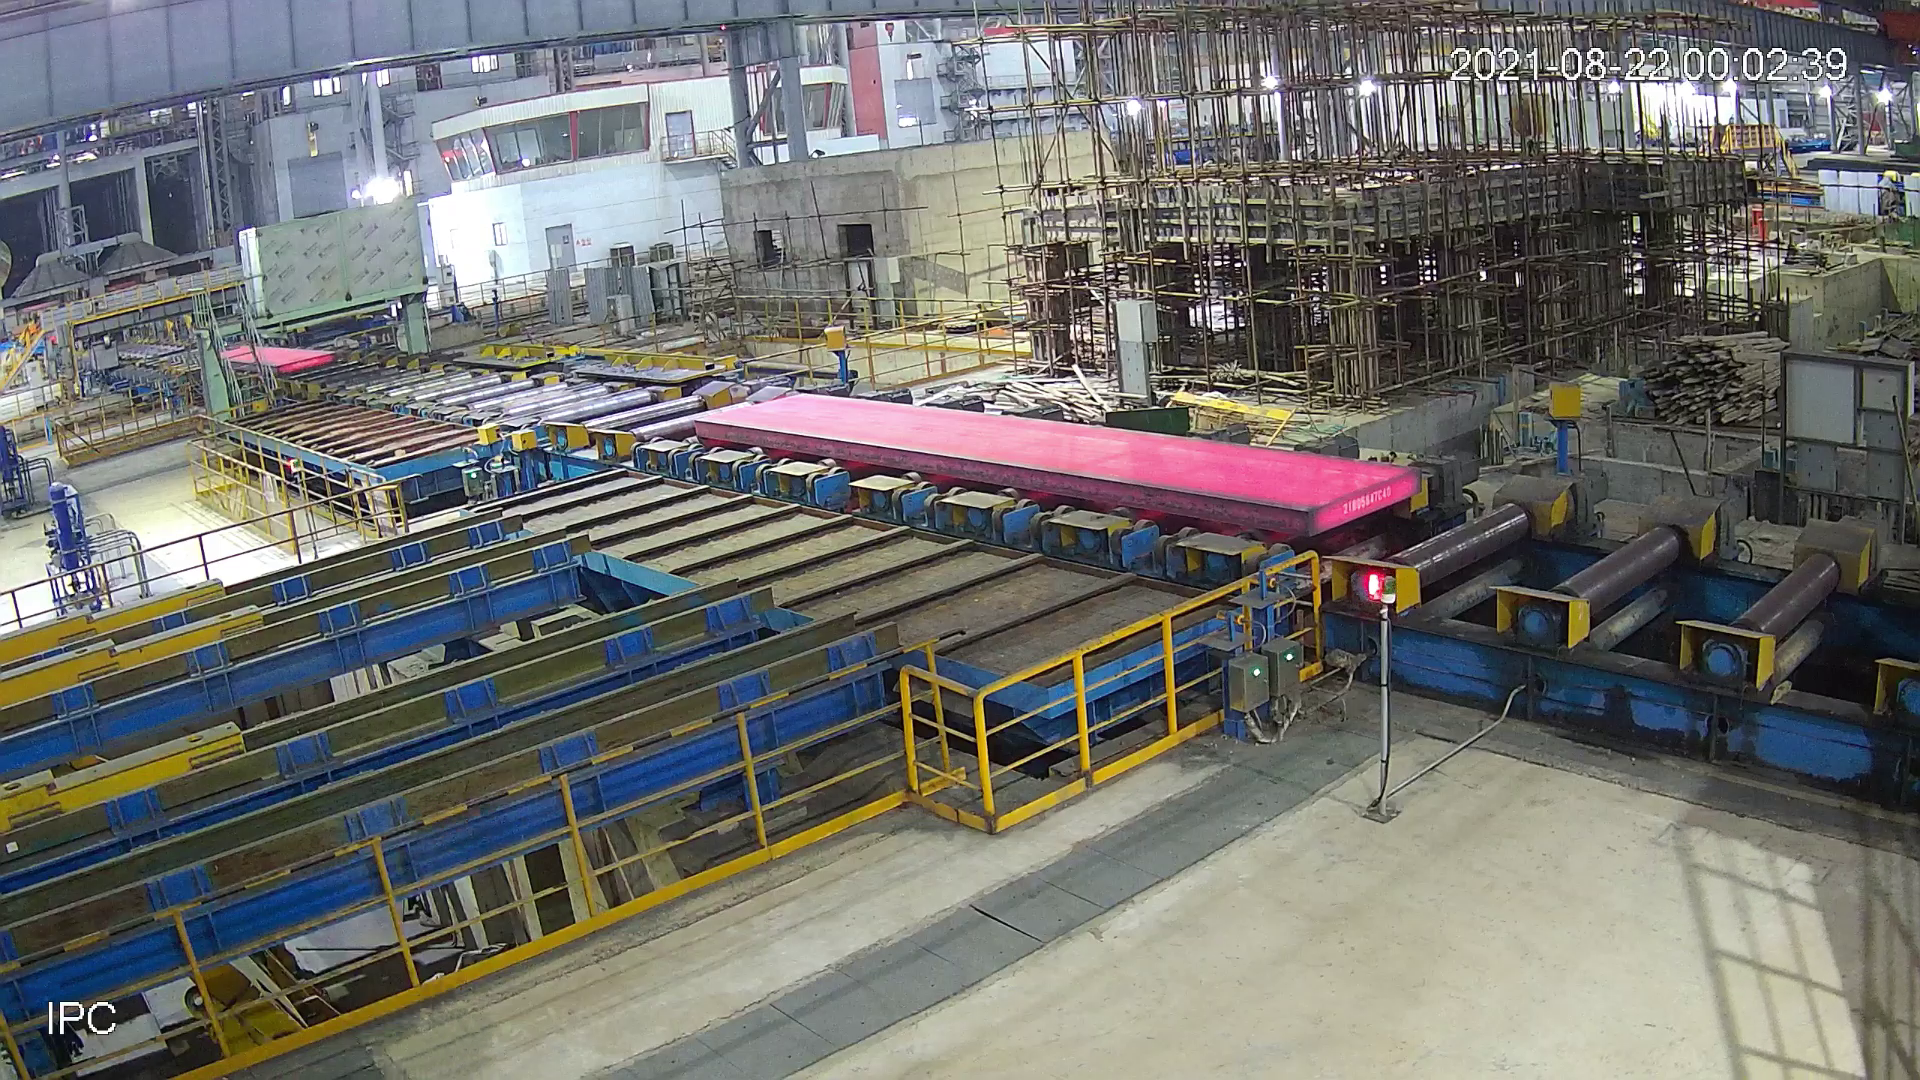slab: (688, 386, 1418, 535), (212, 336, 335, 380)
